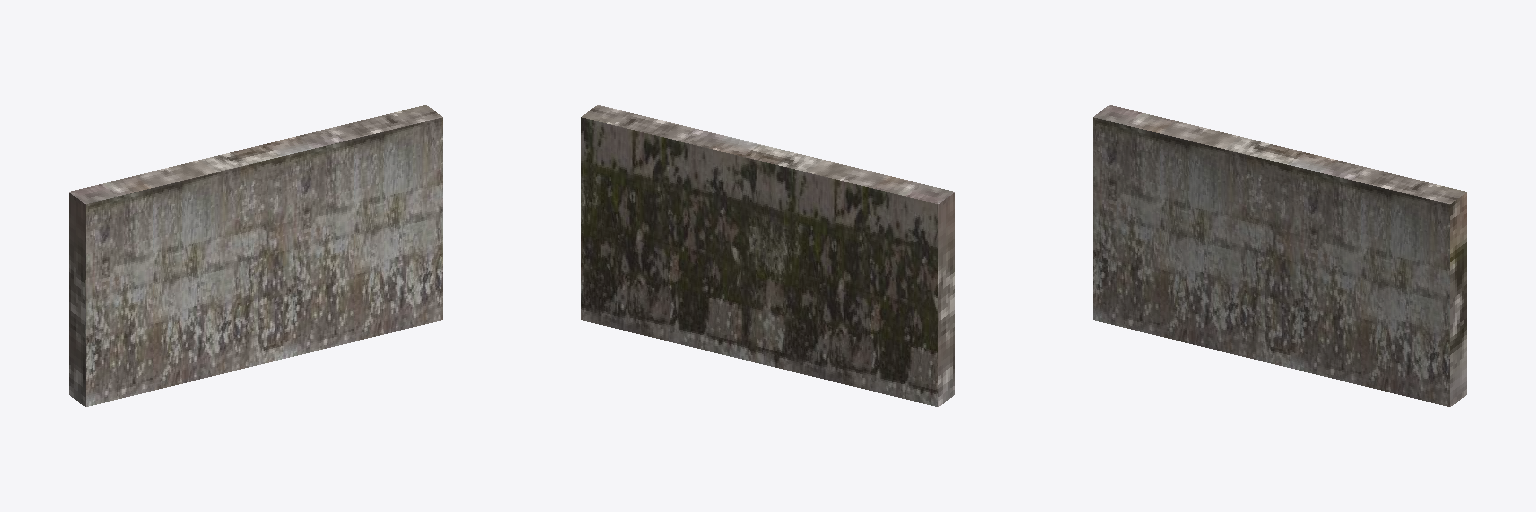
3 views of the same model, side by side, from view 1: azimuth 30°, elevation 25°; view 2: azimuth 150°, elevation 25°; view 3: azimuth 330°, elevation 25° (orthographic).
Visible parts, largest first — view 1: Wall_Cube.003; view 2: Wall_Cube.003; view 3: Wall_Cube.003.
Part boxes in pixels (x1,y1,x2,y2): Wall_Cube.003: (69, 105, 442, 406); Wall_Cube.003: (581, 105, 954, 406); Wall_Cube.003: (1093, 105, 1466, 406).
Bounding box in the file's own units: 3.65 × 1.98 × 0.301.
Materials: 1 (1 with a texture image).